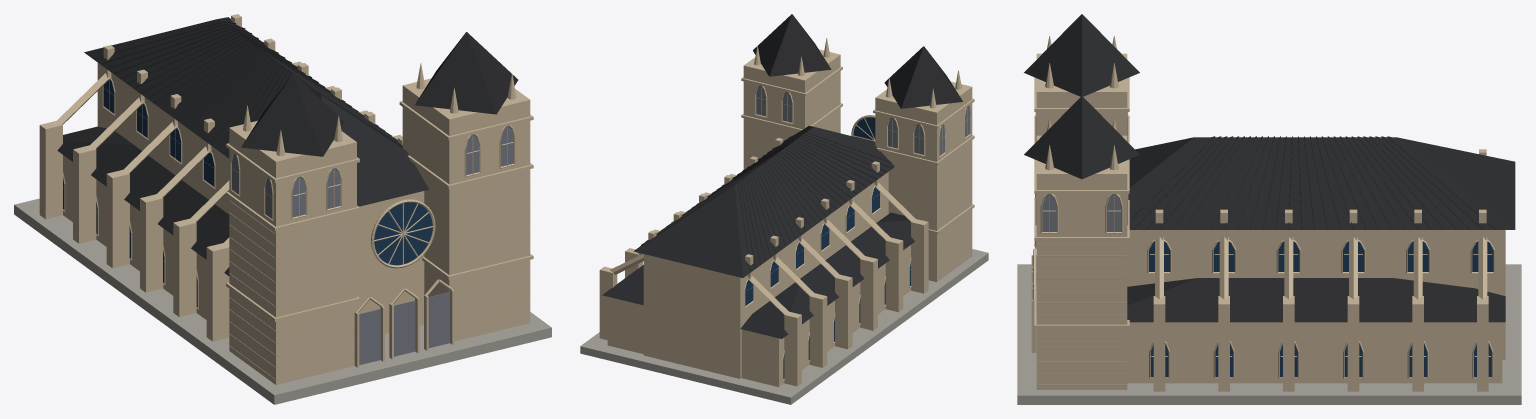
Rendered from top-prebuilt_close.fbx.
3 renders of one model, left to right at view 1: azimuth 30°, elevation 25°; view 2: azimuth 150°, elevation 25°; view 3: azimuth 270°, elevation 25°, orthographic. The views are drawn at different scales.
Visible parts, largest first — view 1: landmark-grand_cathedral/0/top-prebuilt_close; view 2: landmark-grand_cathedral/0/top-prebuilt_close; view 3: landmark-grand_cathedral/0/top-prebuilt_close.
Boxes of the visible parts, x1,y1,x2,y2 form: landmark-grand_cathedral/0/top-prebuilt_close: (14, 14, 551, 404); landmark-grand_cathedral/0/top-prebuilt_close: (580, 14, 988, 404); landmark-grand_cathedral/0/top-prebuilt_close: (1017, 14, 1521, 404).
Bounding box in the file's own units: 48 × 48.5 × 78.
